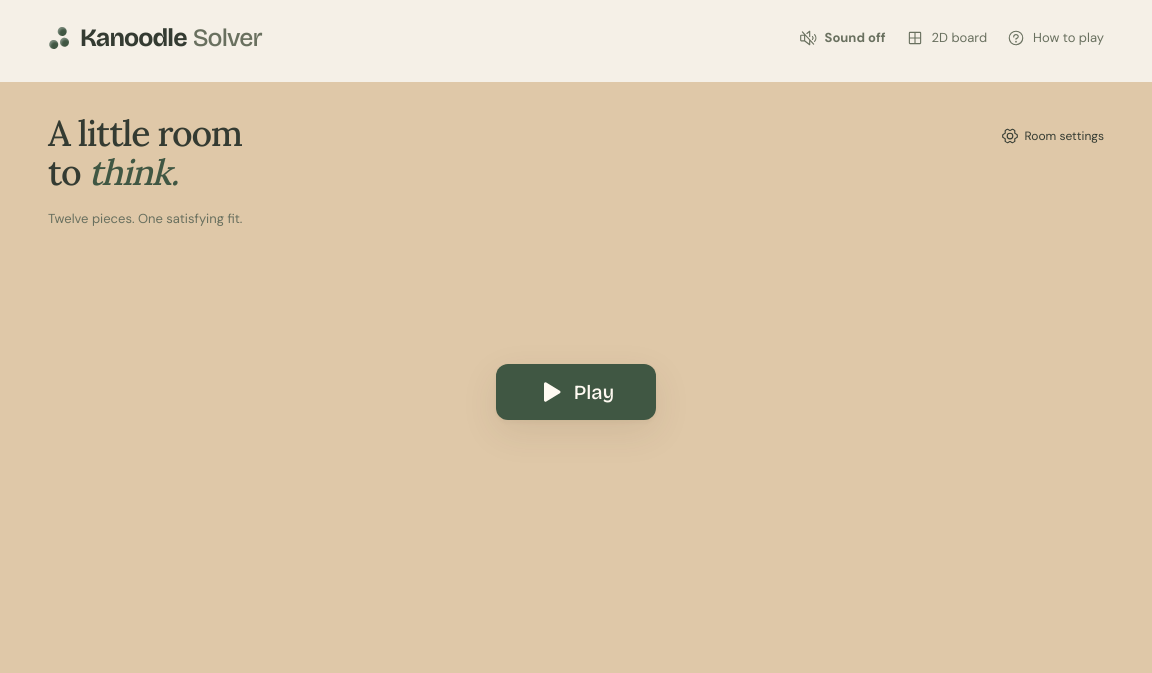
Scenario: AccessibleBoard › Turn piece left updates the nearby orientation summary
The width and height of the screenshot is (1152, 673).
Click the button "2D board".
click(946, 38)  # box [906, 16, 987, 60]
(page scrolled)
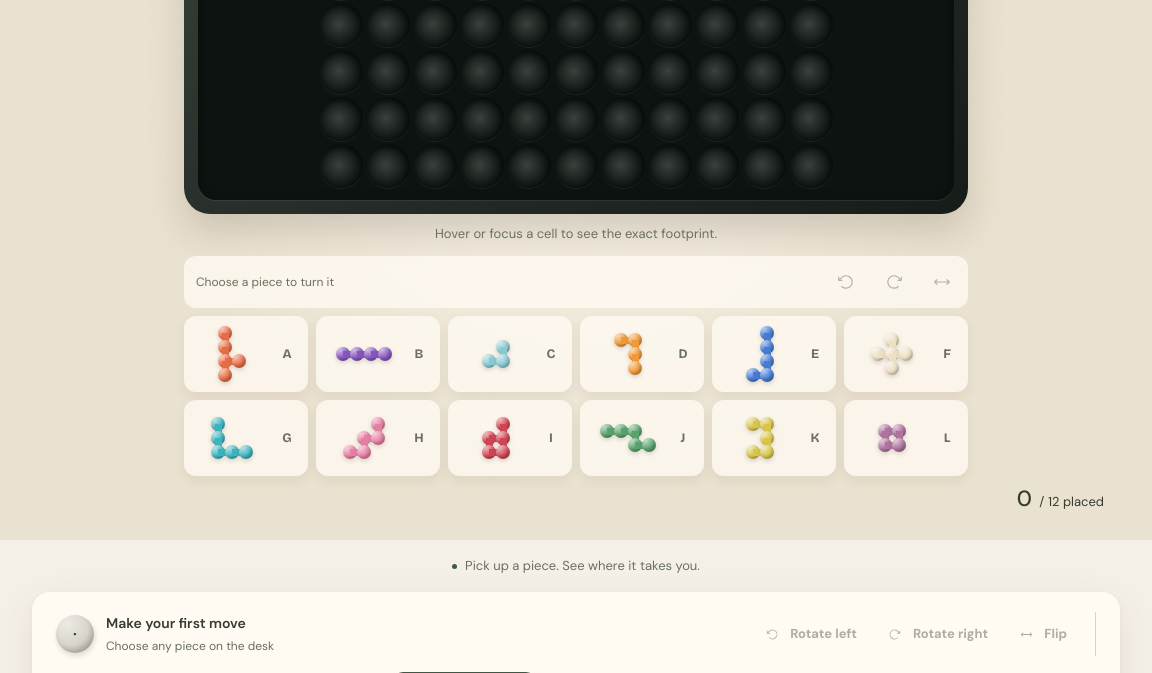
Click the button named "Select piece C".
click(510, 354)  # box [448, 316, 572, 392]
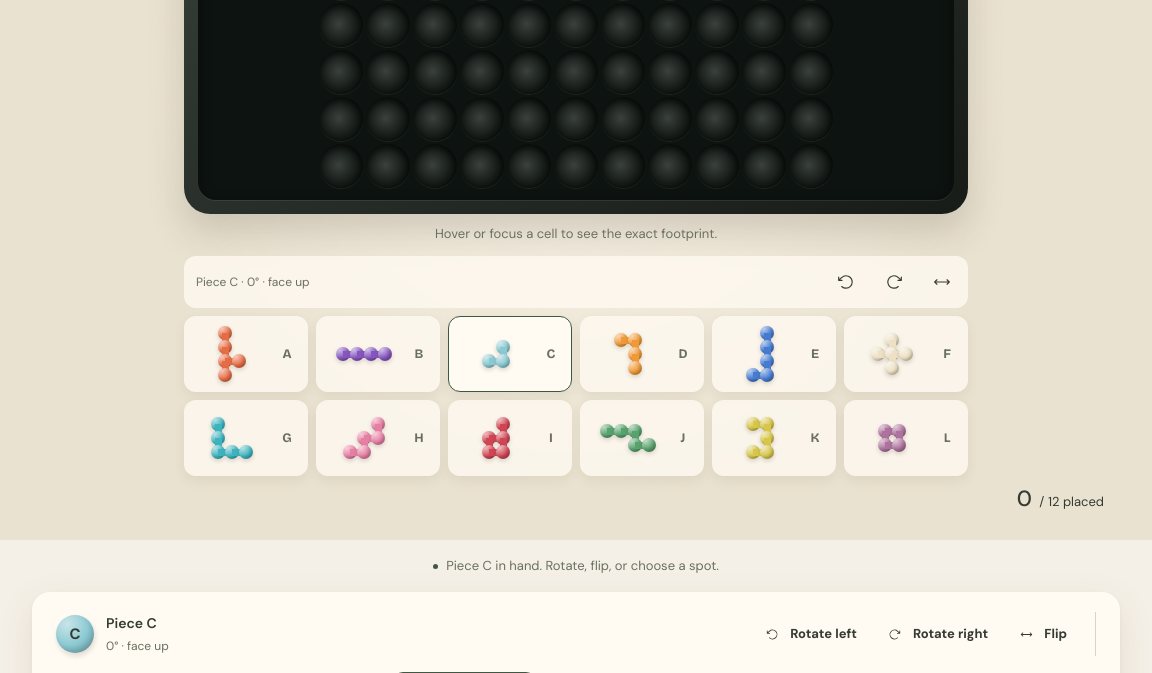
Click the button named "Turn piece left".
click(846, 282)  # box [824, 260, 868, 304]
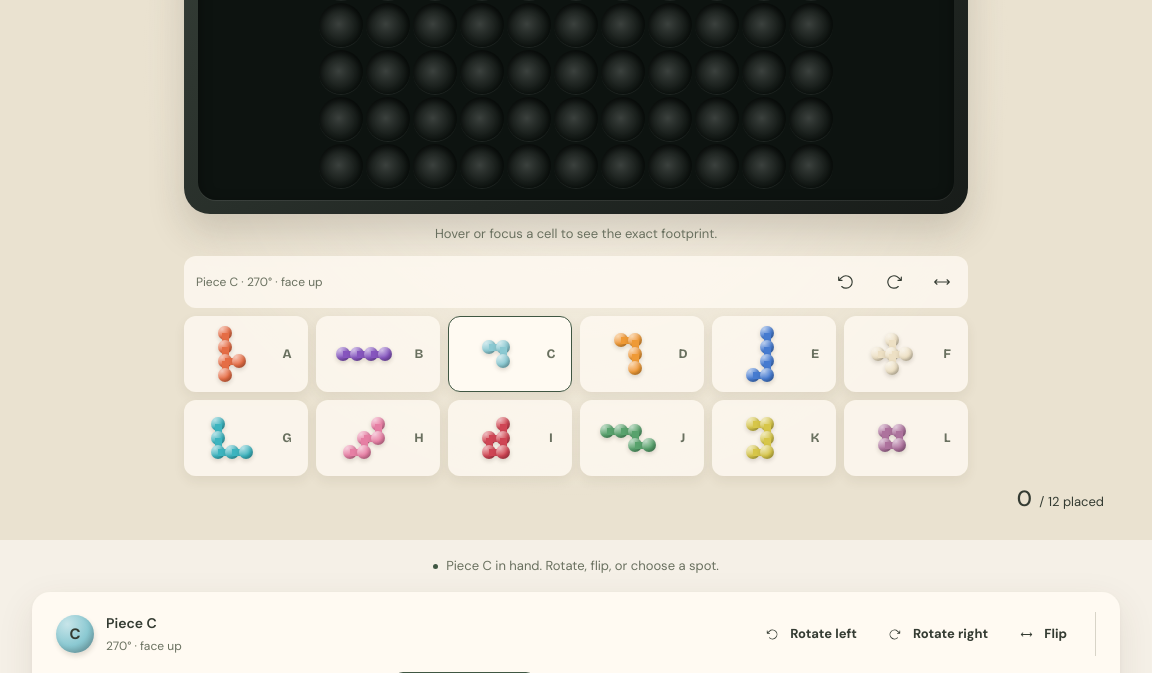
Result: the text "Piece C · 270° · face up" is shown at [196, 273, 323, 292]
